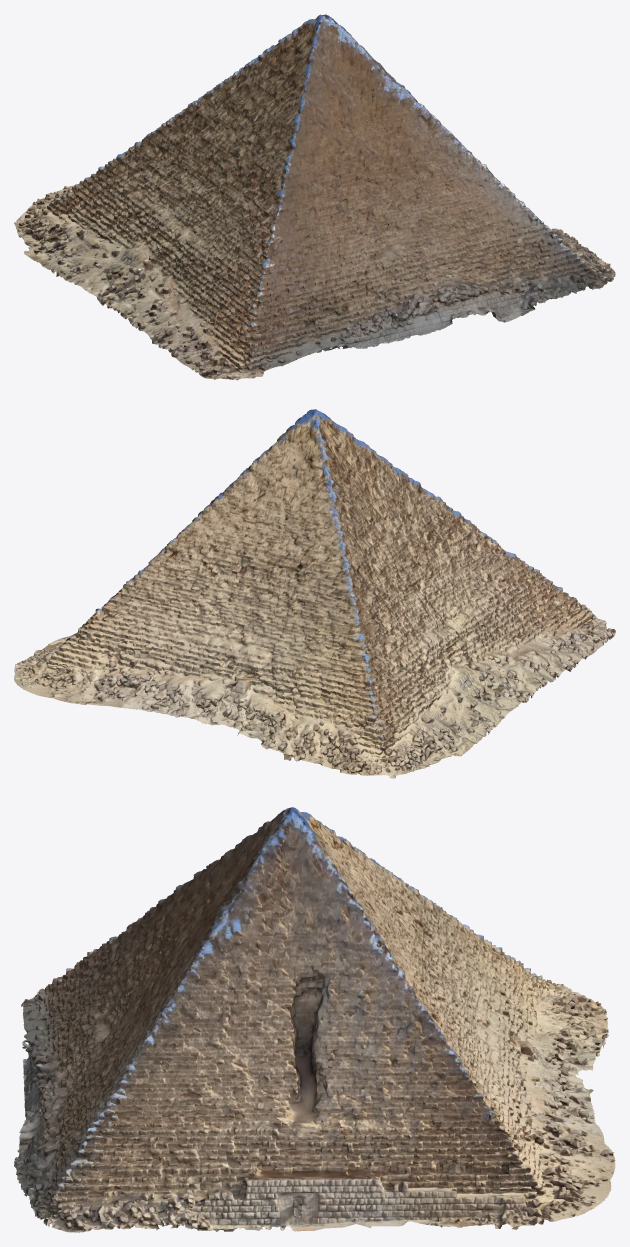
The picture shows the model from 3 angles, top to bottom: view 1: azimuth 30°, elevation 25°; view 2: azimuth 150°, elevation 25°; view 3: azimuth 270°, elevation 25°; orthographic projection. The views are drawn at different scales.
Parts seen in each view (by area): view 1: Object_2; view 2: Object_2; view 3: Object_2.
Part boxes in pixels (<box>): Object_2: <box>14,14,615,380</box>; Object_2: <box>14,409,615,778</box>; Object_2: <box>14,807,615,1232</box>.
Bounding box in the file's own units: 90.35 × 49.68 × 88.28.
Materials: 1 (1 with a texture image).
